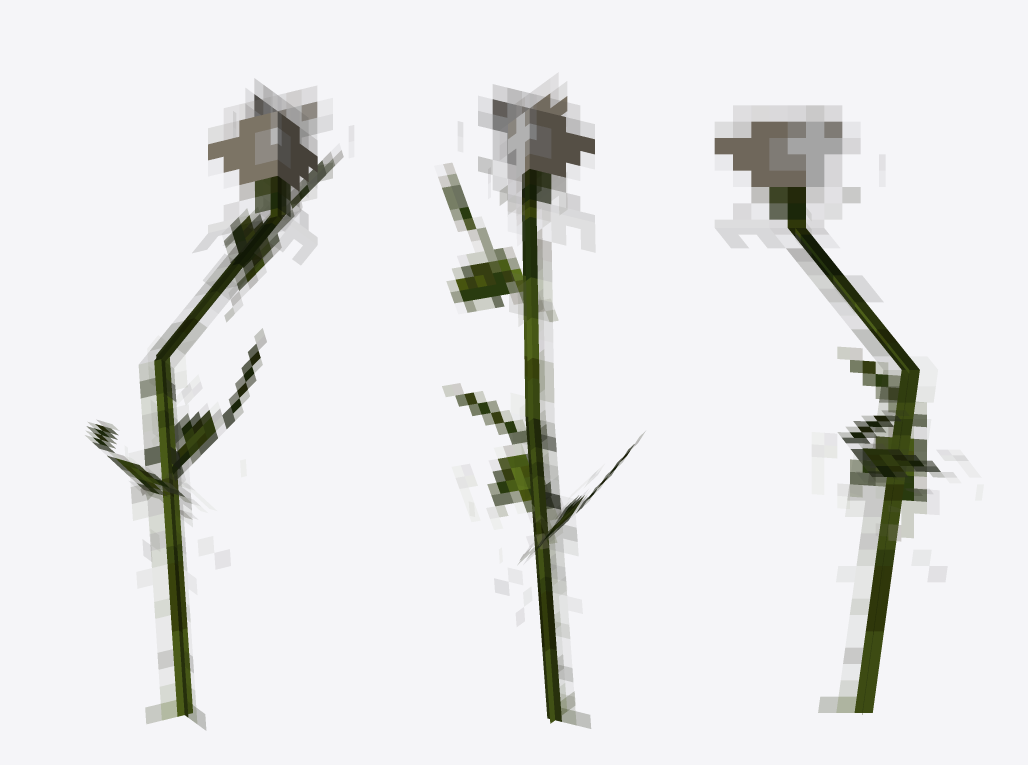
The model's file is plantflr_0.glb.
The picture shows the model from 3 angles, left to right: view 1: azimuth 30°, elevation 25°; view 2: azimuth 150°, elevation 25°; view 3: azimuth 270°, elevation 25°; orthographic projection. The views are drawn at different scales.
Parts seen in each view (by area): view 1: plantflr_0; view 2: plantflr_0; view 3: plantflr_0.
Part boxes in pixels (<box>): plantflr_0: <box>85,79,343,729</box>; plantflr_0: <box>438,73,644,728</box>; plantflr_0: <box>714,105,967,714</box>.
Bounding box in the file's own units: 0.6753 × 1.6 × 0.6721.
Materials: 1 (1 with a texture image).
